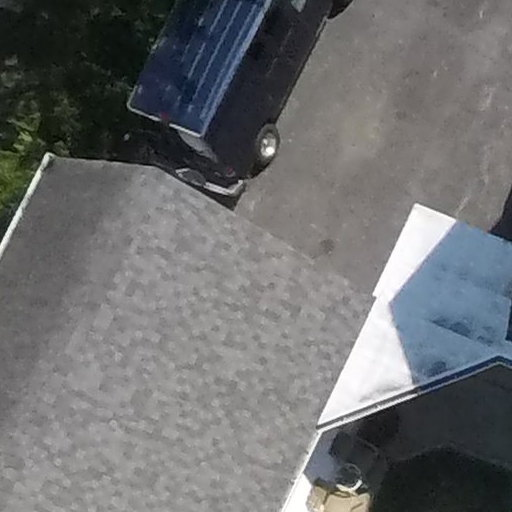chair: (330, 428, 388, 478), (305, 470, 357, 512)
table: (331, 459, 366, 497)
